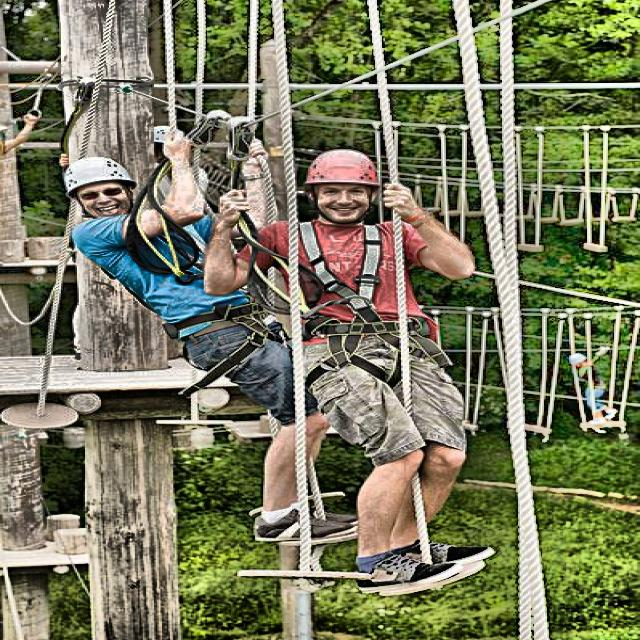helmet: (50, 134, 149, 230), (292, 138, 390, 232)
